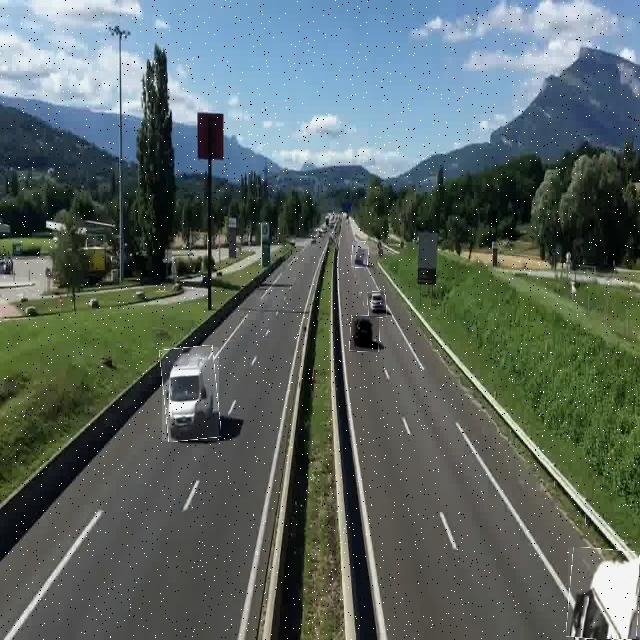Car: (162, 347, 219, 441), (350, 316, 379, 352), (368, 292, 386, 318), (352, 242, 368, 268)
Truck: (568, 548, 640, 640)
